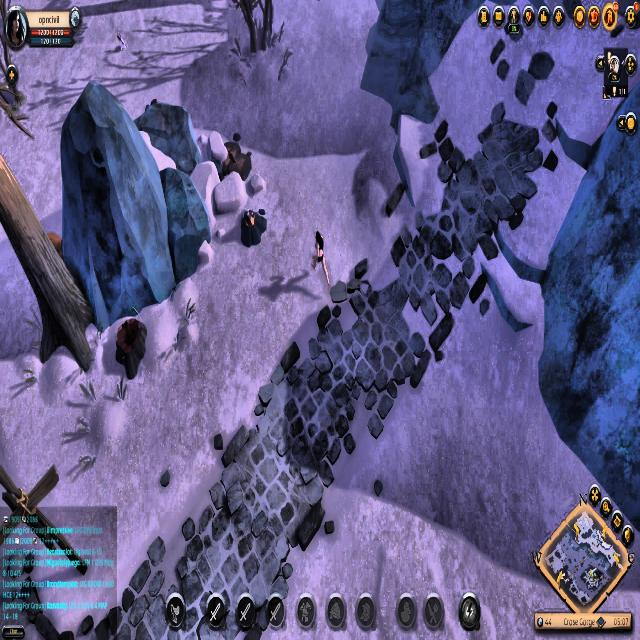copper_ore: (238, 204, 270, 251)
